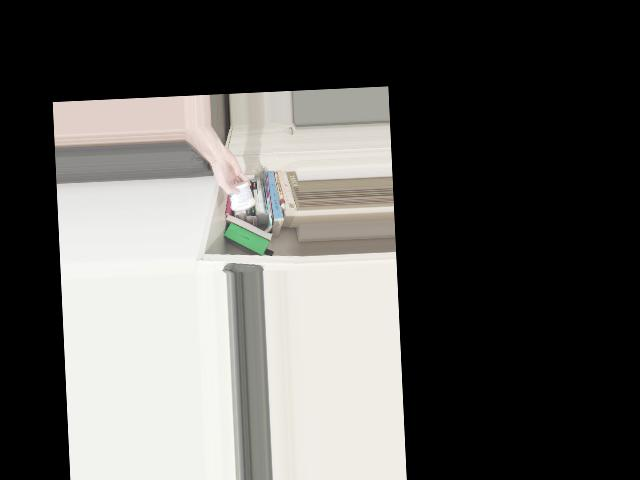cotage: (224, 174, 256, 213)
